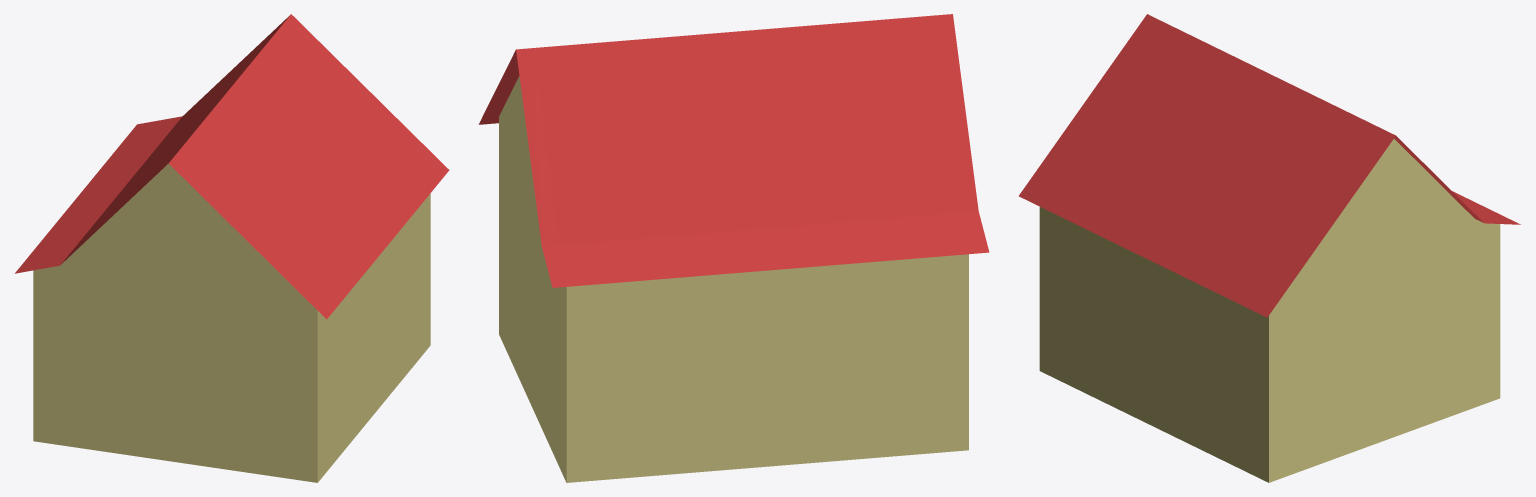
The picture shows the model from 3 angles, left to right: view 1: azimuth 30°, elevation 25°; view 2: azimuth 150°, elevation 25°; view 3: azimuth 270°, elevation 25°; orthographic projection. The views are drawn at different scales.
Bounding box in the file's own units: 16.94 × 16.79 × 11.39.
